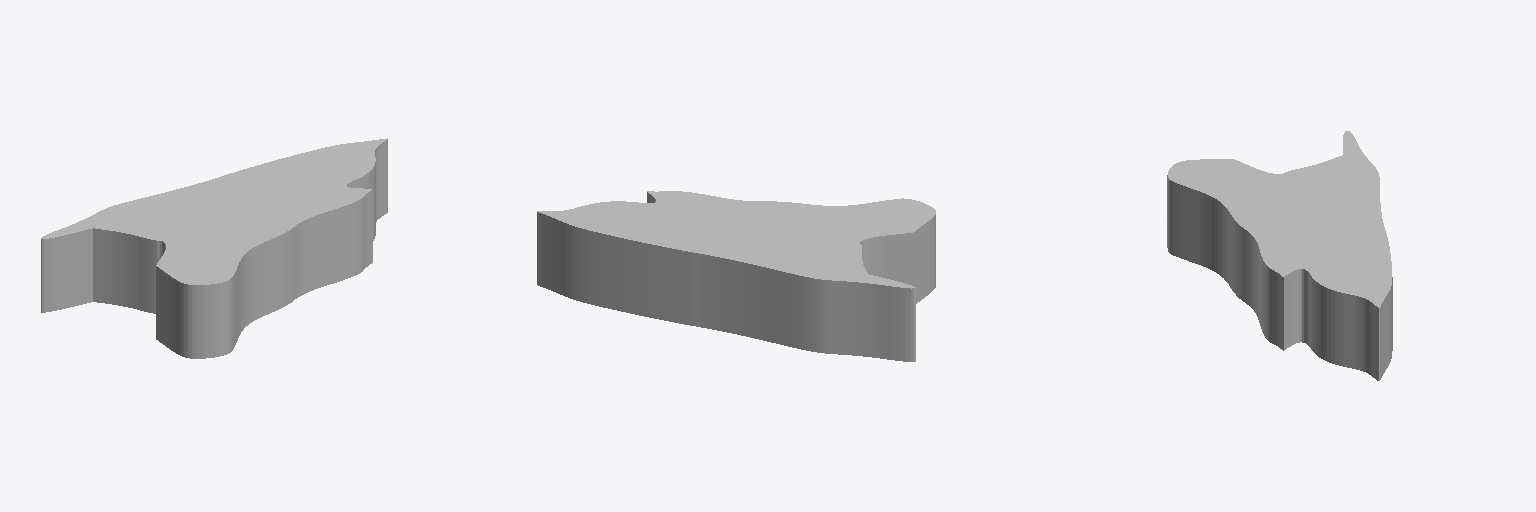
The model's file is North_America_05.obj.
3 renders of one model, left to right at view 1: azimuth 30°, elevation 25°; view 2: azimuth 150°, elevation 25°; view 3: azimuth 270°, elevation 25°, orthographic.
Visible parts, largest first — view 1: North_America_05_path4200; view 2: North_America_05_path4200; view 3: North_America_05_path4200.
Part boxes in pixels (left/top/right/bottom): North_America_05_path4200: left=41, top=138, right=387, bottom=358; North_America_05_path4200: left=537, top=191, right=935, bottom=361; North_America_05_path4200: left=1167, top=131, right=1392, bottom=380.
Size of the model in its own units: 0.5162 by 0.1 by 0.277.